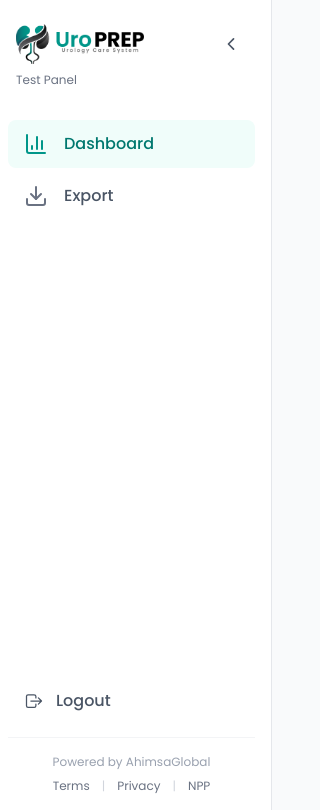
Test: AdminSidebarLayout › shows collapsed sidebar state
This screenshot has width=320, height=810.
Click the button named "Collapse sidebar".
click(231, 44)  # box [215, 28, 247, 60]
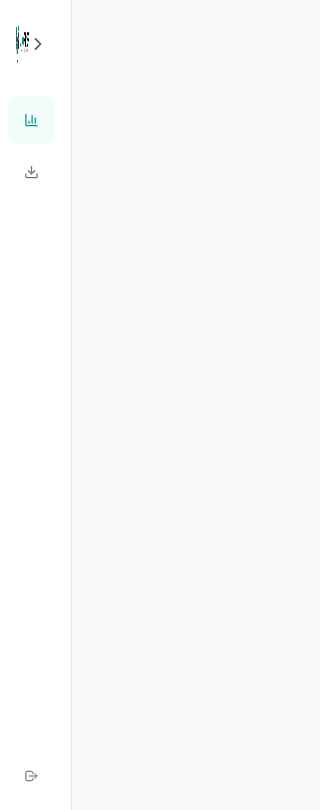
Check: the text "Test Panel" is gone
Check: the button named "Expand sidebar" is shown, box [29, 28, 47, 60]
